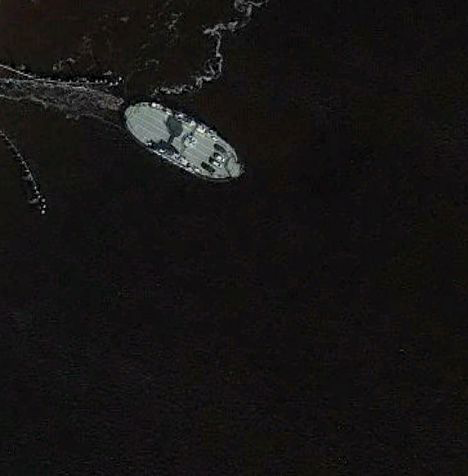boat: (122, 102, 244, 182)
